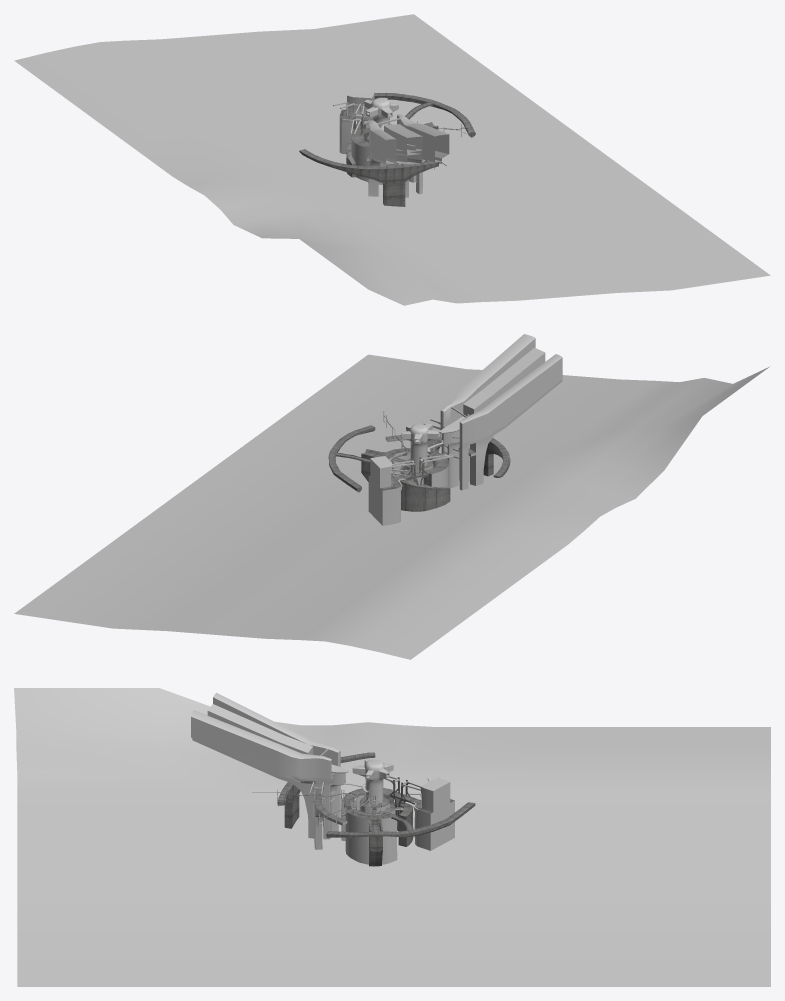
Rendered from stLucia01.fbx.
The picture shows the model from 3 angles, top to bottom: view 1: azimuth 30°, elevation 25°; view 2: azimuth 150°, elevation 25°; view 3: azimuth 270°, elevation 25°; orthographic projection. The views are drawn at different scales.
Visible parts, largest first — view 1: Cube.003, Cube.004, Cube.018, Cube.002, Cube.066; view 2: Cube.003, Cube.018, Cube.004, Cube.002, Cube.066; view 3: Cube.003, Cube.018, Cube.004, Cube.002, Cube.066, stLucia01.
Part boxes in pixels (x1=…): Cube.003: x1=14, y1=14, x2=770, y2=305; Cube.004: x1=299, y1=93, x2=475, y2=206; Cube.018: x1=368, y1=114, x2=469, y2=197; Cube.002: x1=333, y1=90, x2=374, y2=154; Cube.066: x1=364, y1=97, x2=398, y2=128; Cube.003: x1=14, y1=354, x2=769, y2=659; Cube.018: x1=383, y1=334, x2=562, y2=490; Cube.004: x1=328, y1=425, x2=510, y2=511; Cube.002: x1=368, y1=454, x2=453, y2=525; Cube.066: x1=401, y1=423, x2=439, y2=466; Cube.003: x1=14, y1=688, x2=770, y2=986; Cube.018: x1=191, y1=693, x2=375, y2=839; Cube.004: x1=277, y1=752, x2=475, y2=864; Cube.002: x1=384, y1=776, x2=454, y2=850; Cube.066: x1=352, y1=758, x2=393, y2=804; stLucia01: x1=369, y1=819, x2=382, y2=866.
Bounding box in the file's own units: 47279 × 15633 × 72641.
